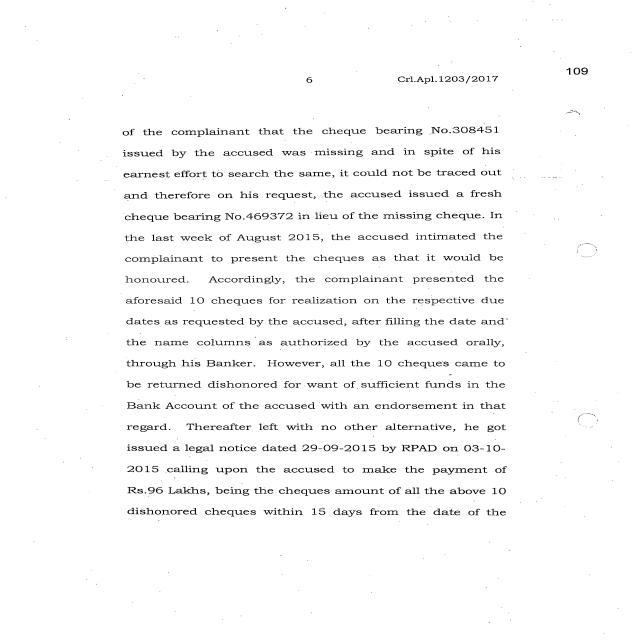page-number: (504, 2, 640, 132)
